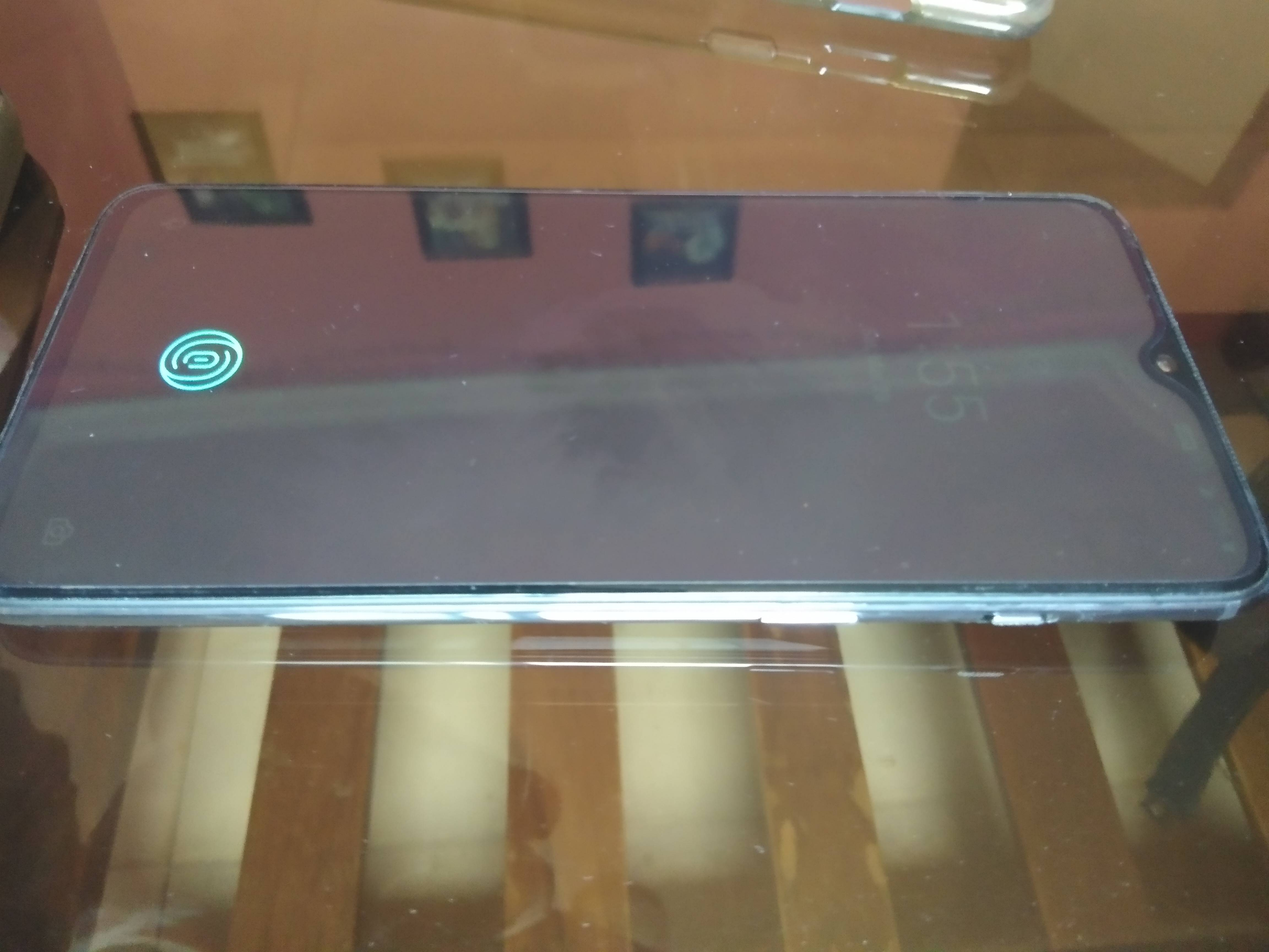Electronics: (0, 140, 1269, 673)
